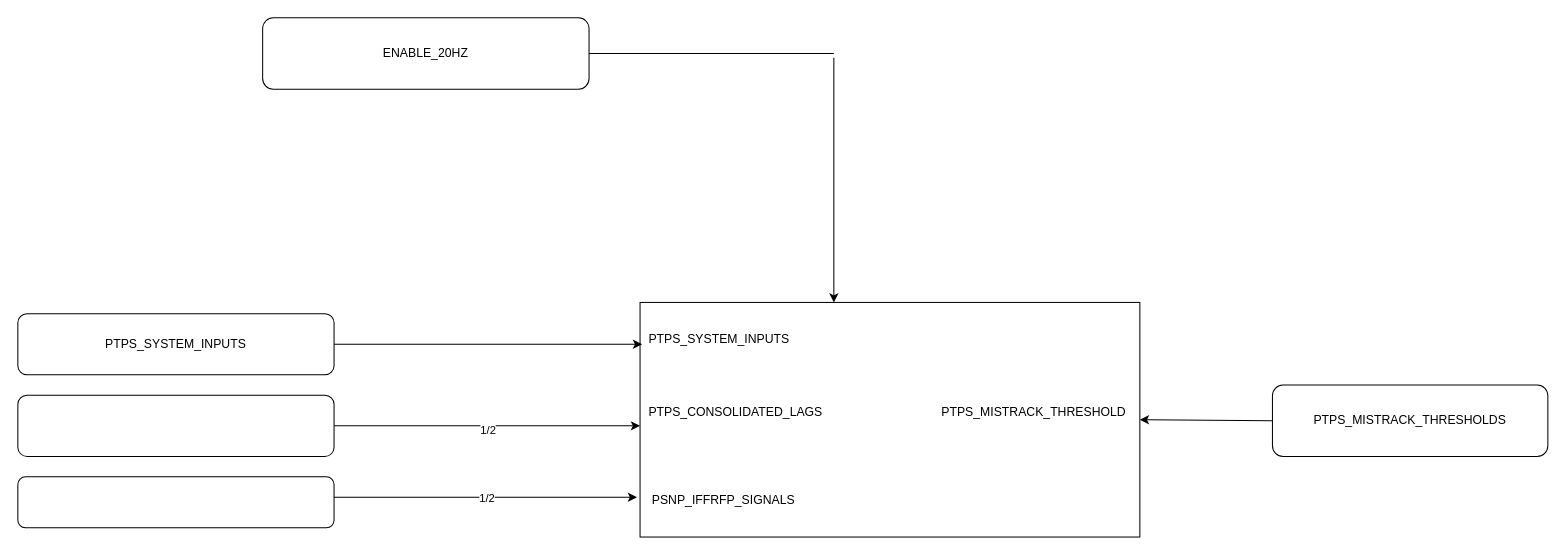
This 1566x555 diagram has some shape labels left out. The box of each missing label's shape, as (x1, y1, x2, y2) in pixels:
PSNP_IFFRFP_SIGNALS: (17, 476, 334, 528)
PTPS_CONSOLIDATED_LAGS: (17, 394, 334, 456)
